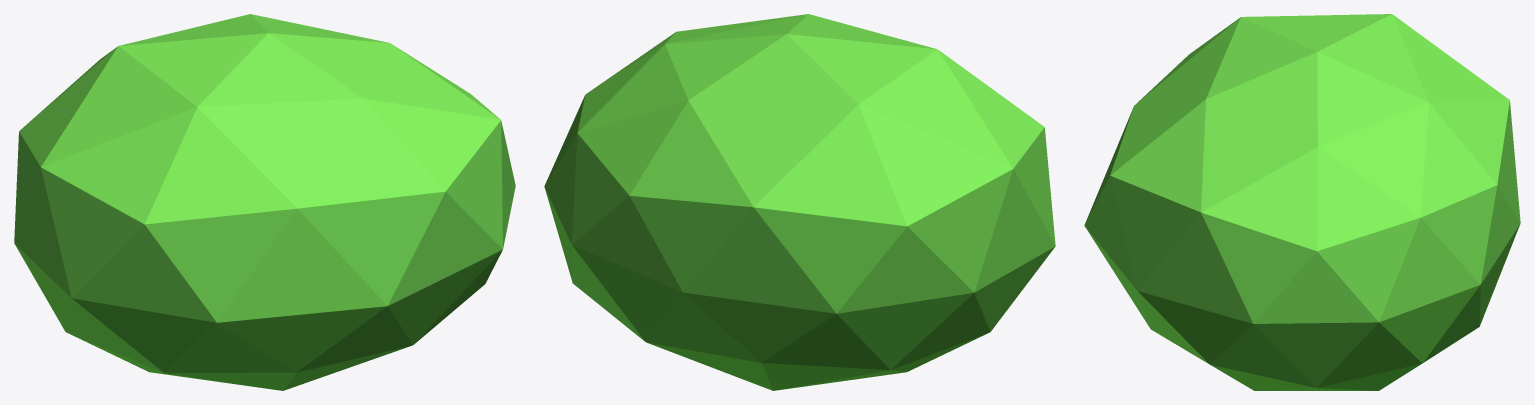
Rendered from Bush.fbx.
The picture shows the model from 3 angles, left to right: view 1: azimuth 30°, elevation 25°; view 2: azimuth 150°, elevation 25°; view 3: azimuth 270°, elevation 25°; orthographic projection. The views are drawn at different scales.
Parts seen in each view (by area): view 1: Bush; view 2: Bush; view 3: Bush.
Part boxes in pixels (<box>): Bush: <box>14,14,515,390</box>; Bush: <box>544,14,1055,390</box>; Bush: <box>1084,14,1520,390</box>.
Bounding box in the file's own units: 46.68 × 33.19 × 41.34.
